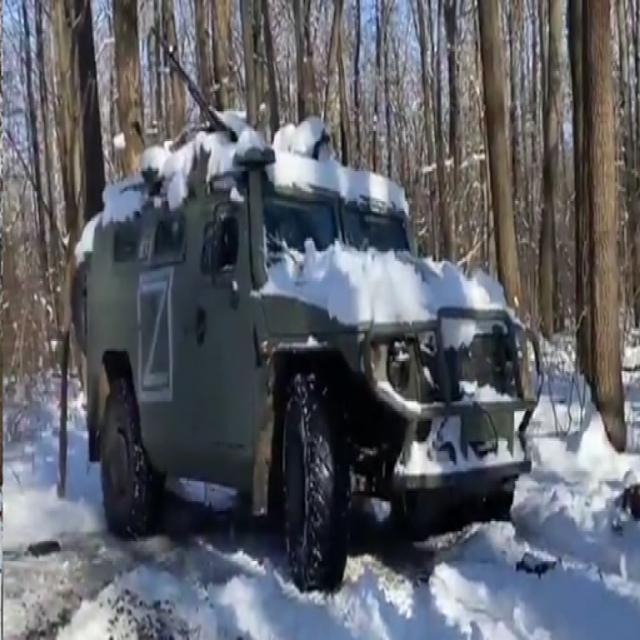CAR: (68, 102, 528, 604)
